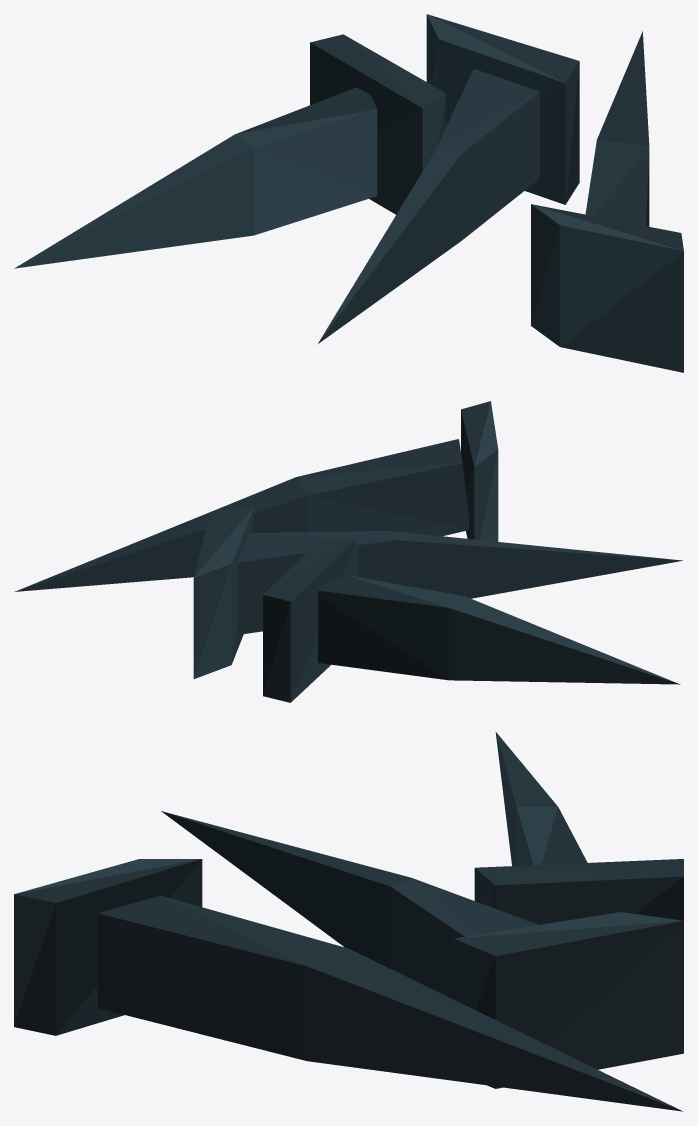
File: rune.obj
3 views of the same model, one above another, from view 1: azimuth 30°, elevation 25°; view 2: azimuth 150°, elevation 25°; view 3: azimuth 270°, elevation 25° (orthographic). The views are drawn at different scales.
Parts seen in each view (by area): view 1: Item Rune nails 2026-10-08_15-41-37; view 2: Item Rune nails 2026-10-08_15-41-37; view 3: Item Rune nails 2026-10-08_15-41-37.
Part boxes in pixels (x1=…): Item Rune nails 2026-10-08_15-41-37: x1=14, y1=14, x2=683, y2=372; Item Rune nails 2026-10-08_15-41-37: x1=14, y1=401, x2=682, y2=702; Item Rune nails 2026-10-08_15-41-37: x1=14, y1=732, x2=683, y2=1111.
Bounding box in the file's own units: 43 × 7 × 32.
